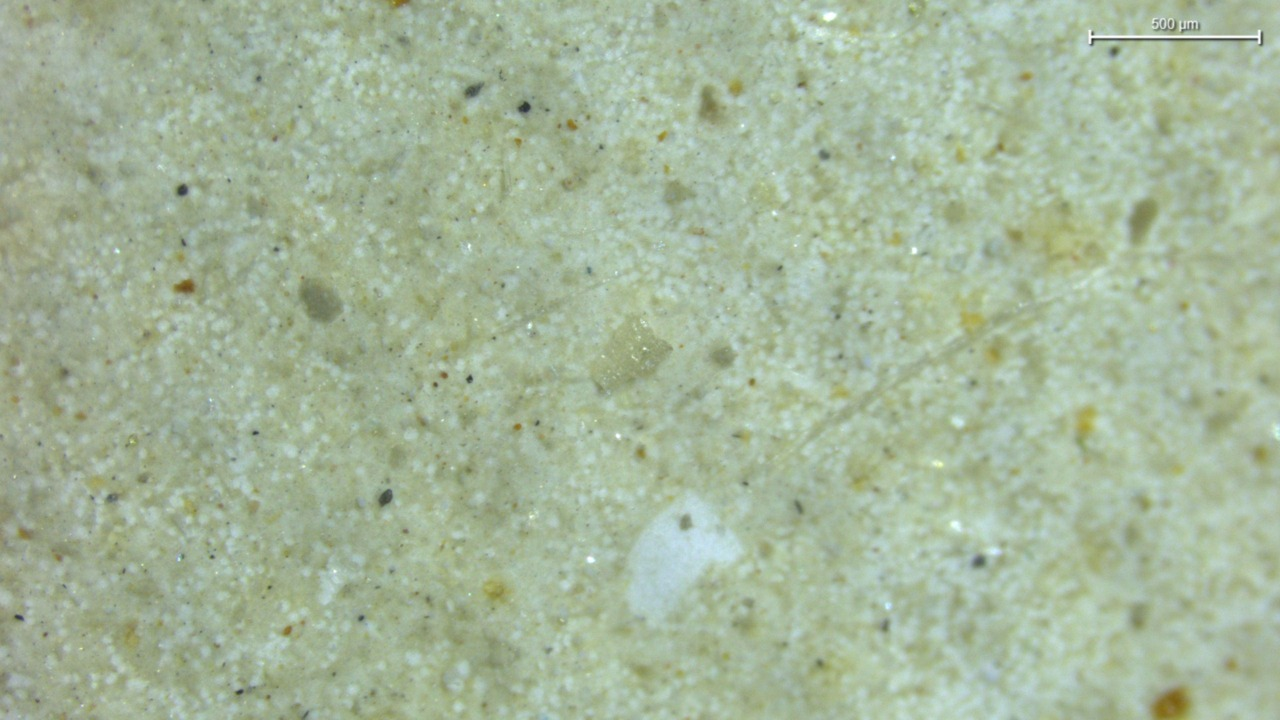microplastic_fragment: (591, 317, 672, 391)
